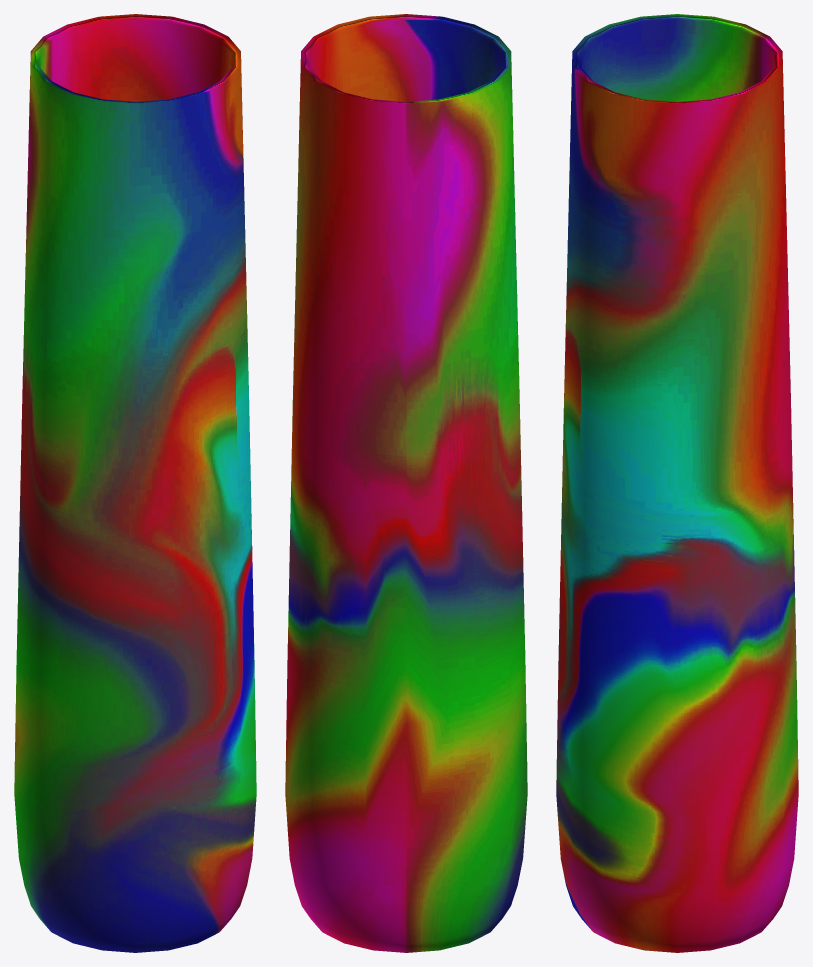
Rendered from IO_RainbowVase_02.fbx.
3 views of the same model, side by side, from view 1: azimuth 30°, elevation 25°; view 2: azimuth 150°, elevation 25°; view 3: azimuth 270°, elevation 25° (orthographic).
Parts seen in each view (by area): view 1: Vase; view 2: Vase; view 3: Vase.
Part boxes in pixels (x1=…): Vase: x1=14, y1=14, x2=256, y2=952; Vase: x1=285, y1=14, x2=527, y2=952; Vase: x1=556, y1=14, x2=798, y2=952.
Size of the model in its own units: 10.92 by 41.98 by 10.76.
